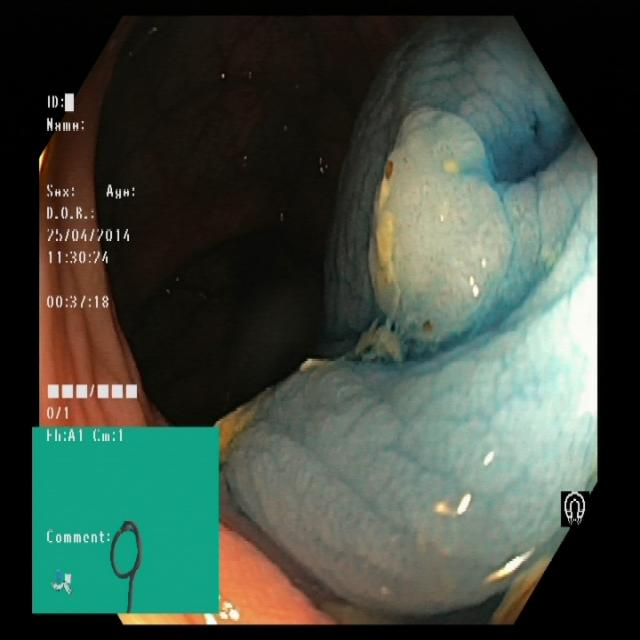diedpolyp: (356, 48, 598, 566)
location: (35, 430, 220, 617)
